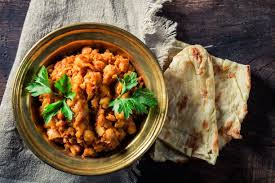rendang: (16, 42, 164, 157)
